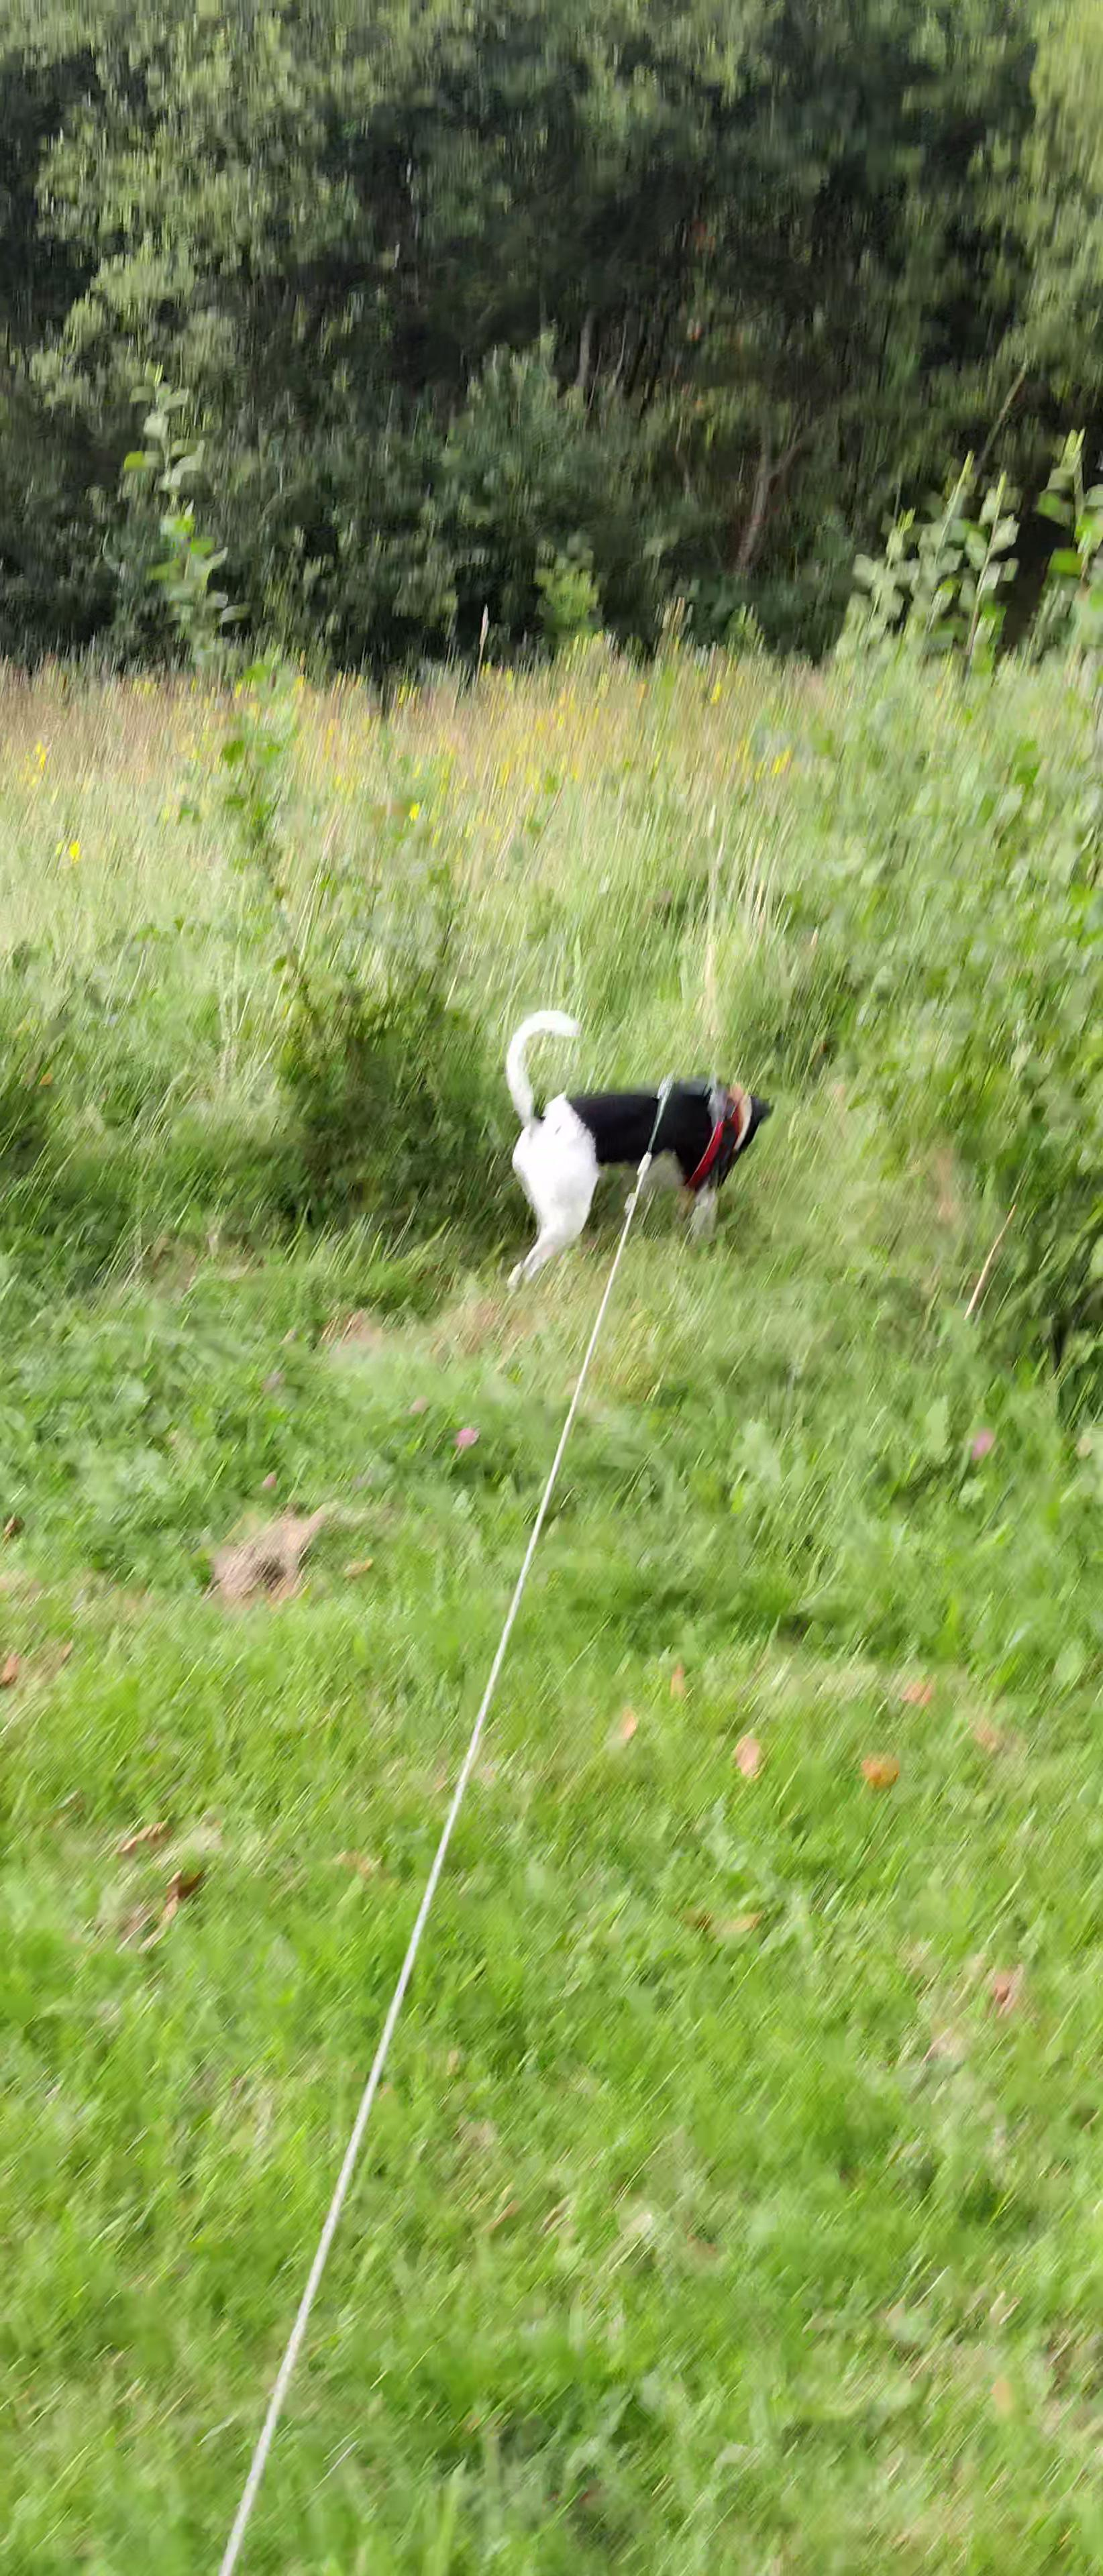Dog: (485, 1002, 778, 1298)
